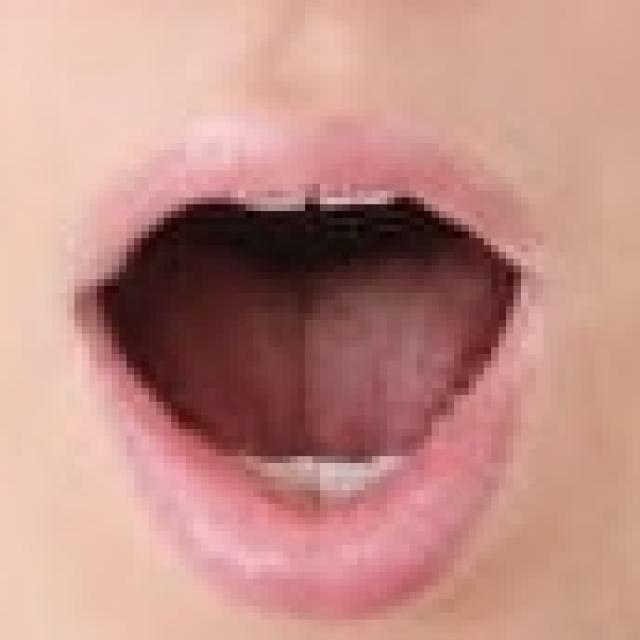open-mouth: (67, 109, 551, 613)
